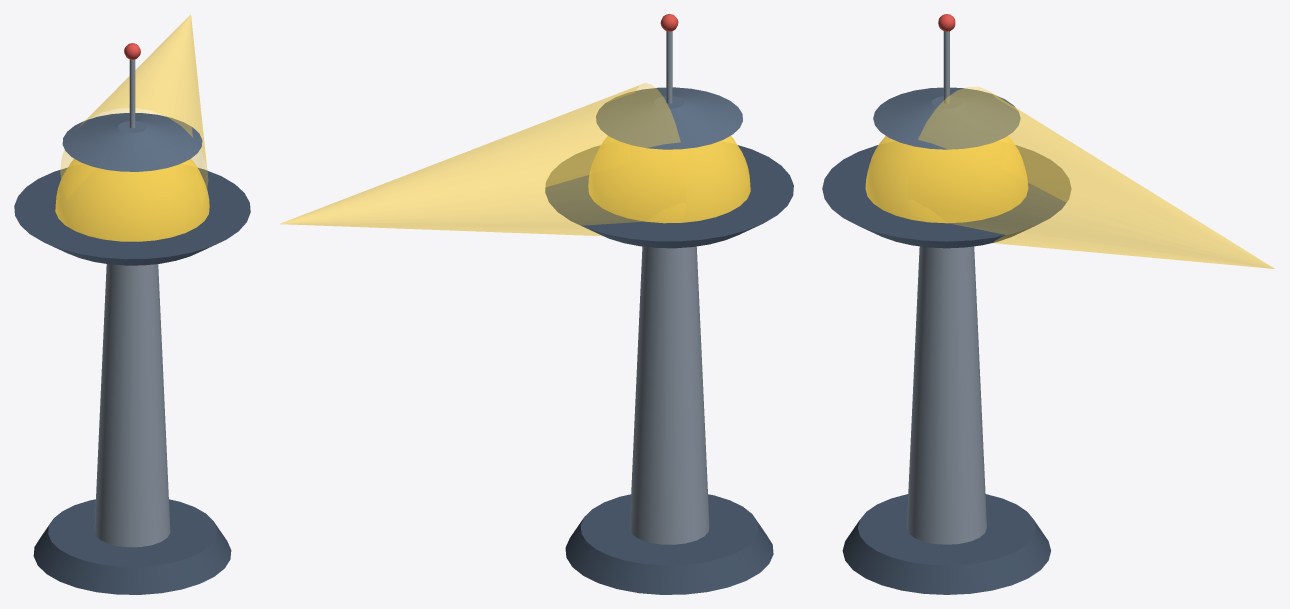
File: watchtower-observer.glb
3 views of the same model, side by side, from view 1: azimuth 30°, elevation 25°; view 2: azimuth 150°, elevation 25°; view 3: azimuth 270°, elevation 25° (orthographic). The views are drawn at different scales.
Parts seen in each view (by area): view 1: tower-observer, searchlight; view 2: tower-observer, searchlight; view 3: tower-observer, searchlight.
Part boxes in pixels (<box>): tower-observer: <box>14,43,250,594</box>; searchlight: <box>60,14,208,187</box>; tower-observer: <box>545,14,793,594</box>; searchlight: <box>280,83,686,236</box>; tower-observer: <box>822,14,1071,594</box>; searchlight: <box>908,87,1274,268</box>.
Size of the model in its own units: 3.03 by 4.65 by 3.56.
